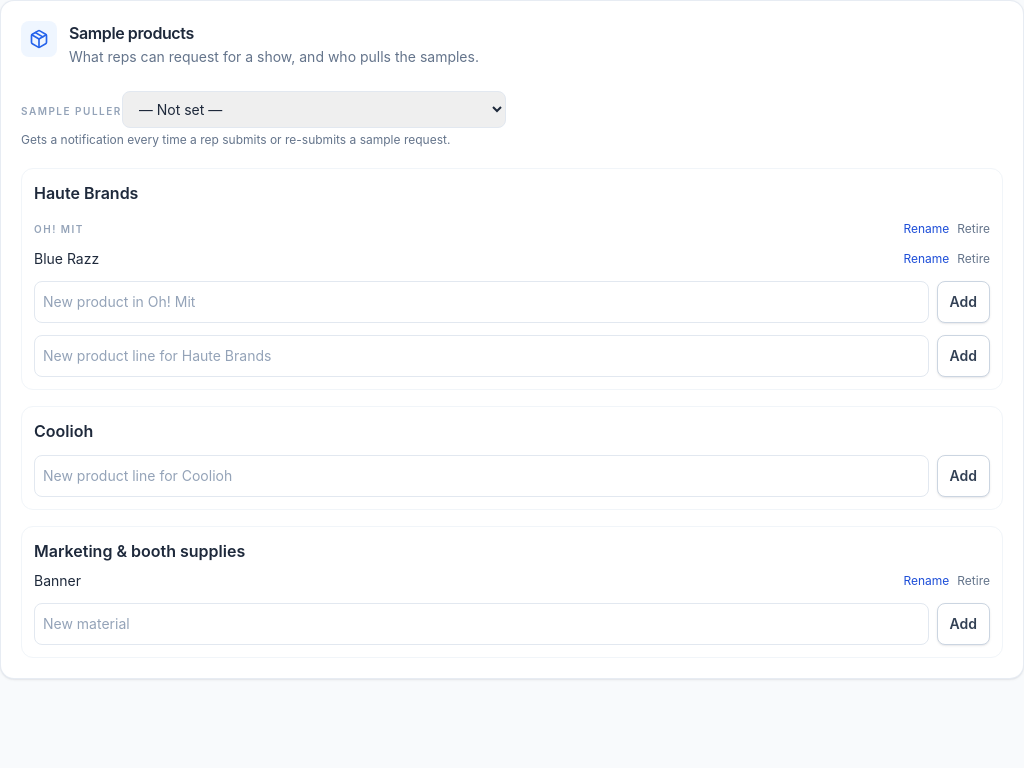
Scenario: SampleCatalogSection › retires a product instead of deleting it
Check: the text "Blue Razz" is shown, box left=34, top=249, right=99, bottom=269
Click the button with aria-label "Retire Blue Razz": (974,259) left=957, top=251, right=990, bottom=267
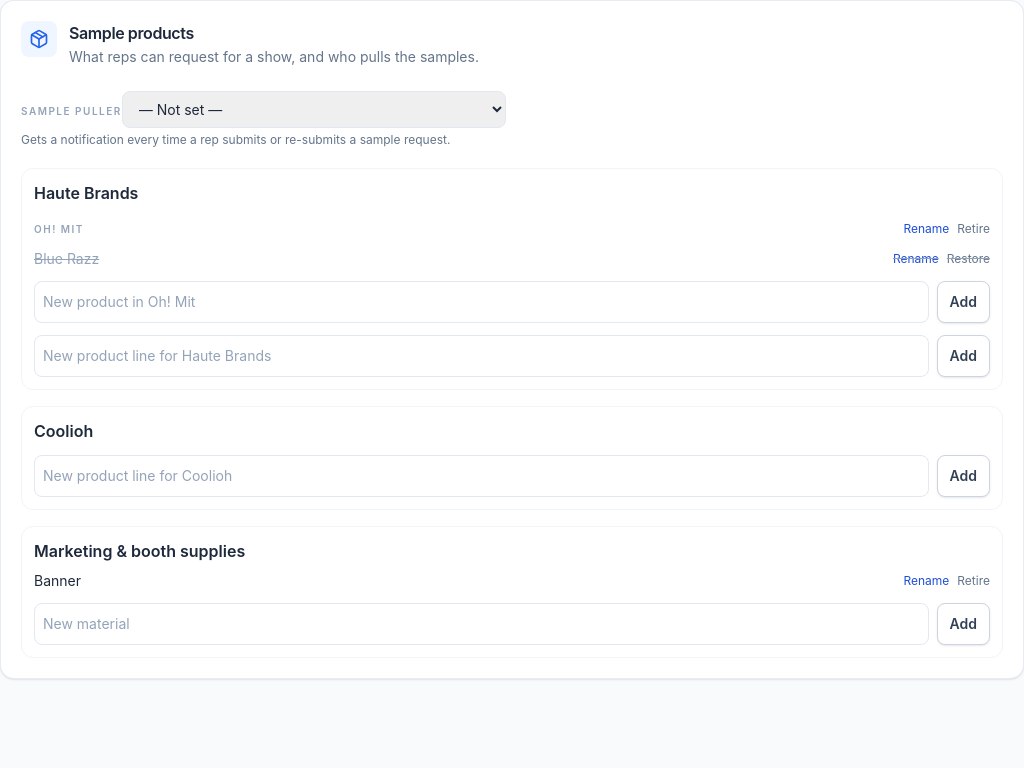
Check: the button with aria-label "Restore Blue Razz" is shown, box left=947, top=251, right=990, bottom=267
